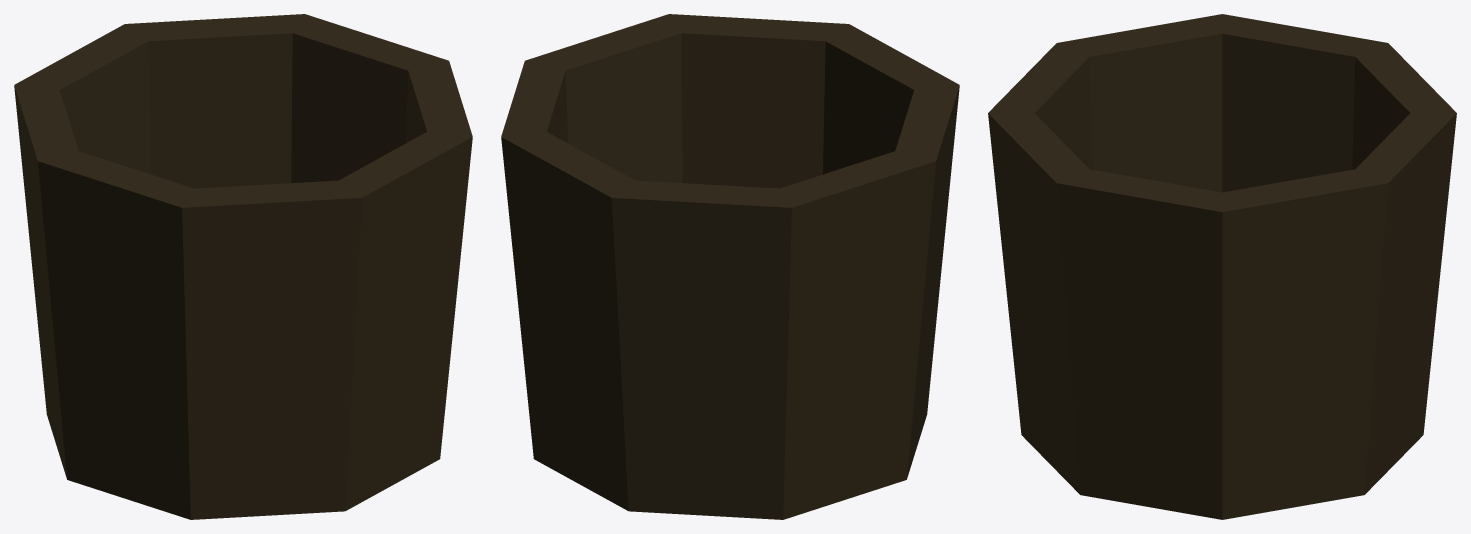
The picture shows the model from 3 angles, left to right: view 1: azimuth 30°, elevation 25°; view 2: azimuth 150°, elevation 25°; view 3: azimuth 270°, elevation 25°; orthographic projection.
Visible parts, largest first — view 1: Cylinder017; view 2: Cylinder017; view 3: Cylinder017.
Part boxes in pixels (<box>): Cylinder017: <box>14,14,472,519</box>; Cylinder017: <box>501,14,959,519</box>; Cylinder017: <box>988,14,1456,519</box>.
Size of the model in its own units: 0.4254 by 0.3222 by 0.4254.
